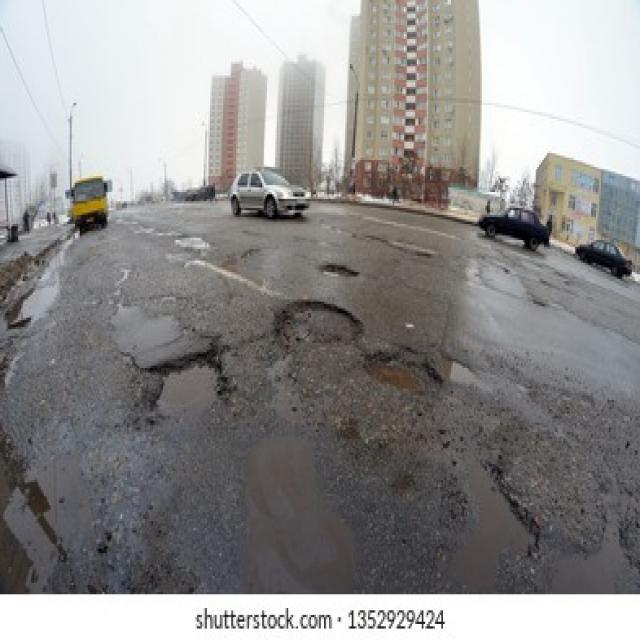Pothole: (466, 460, 540, 558), (152, 352, 226, 427), (282, 297, 362, 345), (363, 350, 433, 393), (436, 349, 476, 388), (321, 262, 362, 282), (415, 252, 430, 258)
